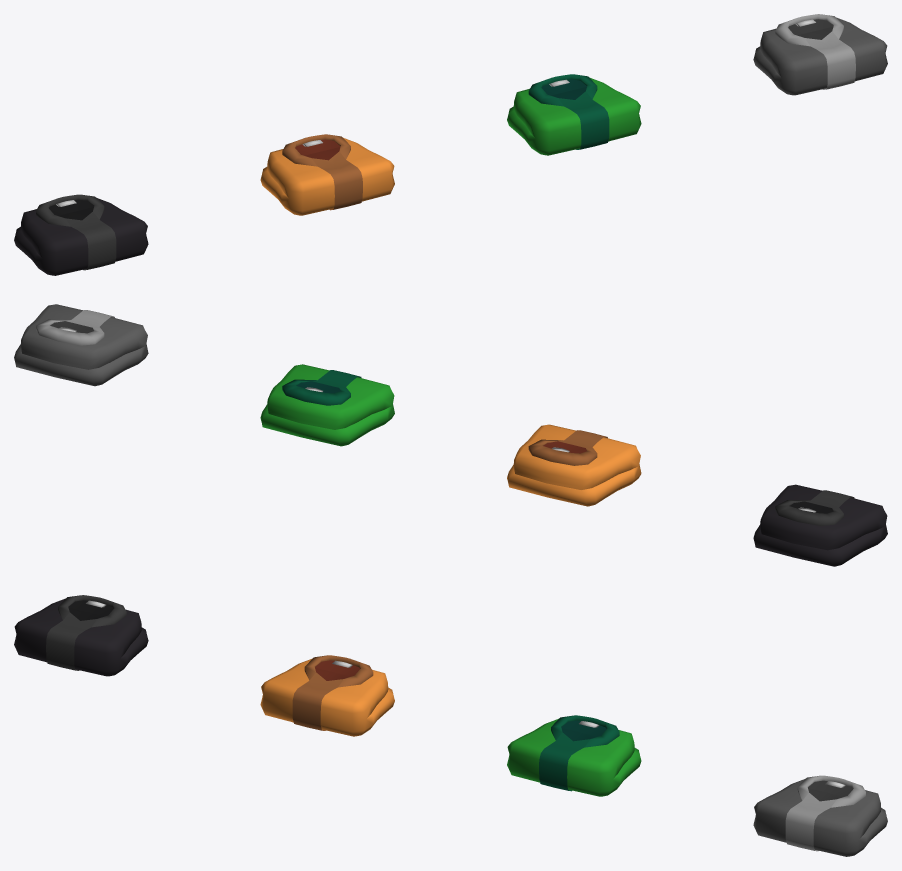
File: JumpsuitsFolded.fbx
The picture shows the model from 3 angles, top to bottom: view 1: azimuth 30°, elevation 25°; view 2: azimuth 150°, elevation 25°; view 3: azimuth 330°, elevation 25°; orthographic projection.
Parts seen in each view (by area): view 1: JumpsuitSecurityFolded, JumpsuitGreyFolded, JumpsuitBotanyFolded, JumpsuitEngineeringFolded; view 2: JumpsuitEngineeringFolded, JumpsuitSecurityFolded, JumpsuitBotanyFolded, JumpsuitGreyFolded; view 3: JumpsuitSecurityFolded, JumpsuitGreyFolded, JumpsuitEngineeringFolded, JumpsuitBotanyFolded.
Boxes of the visible parts, <box> form: JumpsuitSecurityFolded: <box>14,194,148,275</box>; JumpsuitGreyFolded: <box>753,14,887,95</box>; JumpsuitBotanyFolded: <box>507,74,641,155</box>; JumpsuitEngineeringFolded: <box>260,134,394,215</box>; JumpsuitEngineeringFolded: <box>507,424,641,506</box>; JumpsuitSecurityFolded: <box>753,484,887,566</box>; JumpsuitBotanyFolded: <box>260,364,394,446</box>; JumpsuitGreyFolded: <box>14,304,148,386</box>; JumpsuitSecurityFolded: <box>14,595,148,676</box>; JumpsuitGreyFolded: <box>753,775,887,856</box>; JumpsuitEngineeringFolded: <box>260,655,394,736</box>; JumpsuitBotanyFolded: <box>507,715,641,796</box>.
Size of the model in its own units: 3.43 by 0.1731 by 0.3515.
